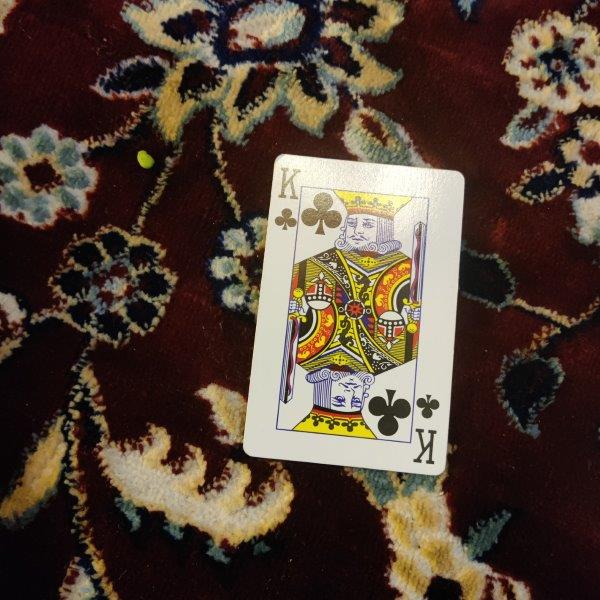King of Clubs: (242, 153, 466, 477)
